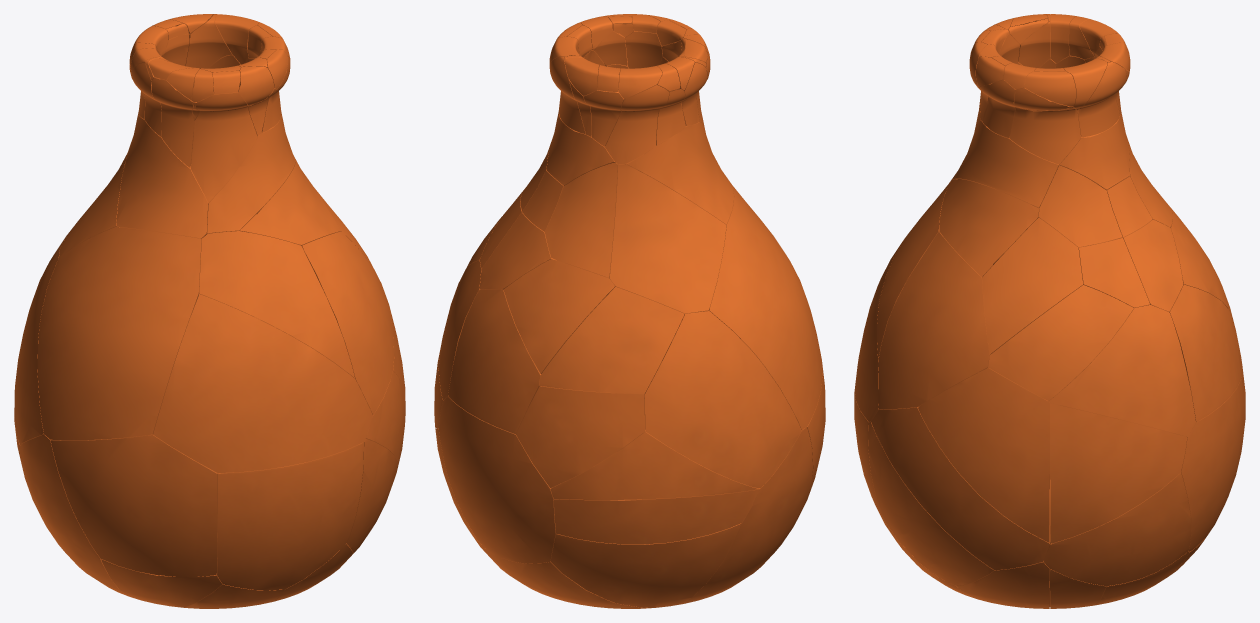
File: Vase_fractured.fbx
3 views of the same model, side by side, from view 1: azimuth 30°, elevation 25°; view 2: azimuth 150°, elevation 25°; view 3: azimuth 270°, elevation 25° (orthographic).
Visible parts, largest first — view 1: Cube.001_cell.017, Cube.001_cell.033, Cube.001_cell.068, Cube.001_cell.015, Cube.001_cell.035, Cube.001_cell.066, Cube.001_cell.041, Cube.001_cell.002, Cube.001_cell.076, Cube.001_cell.028, Cube.001_cell.037, Cube.001_cell.070 (+18 smaller); view 2: Cube.001_cell.070, Cube.001_cell.017, Cube.001_cell.046, Cube.001_cell.027, Cube.001_cell.051, Cube.001_cell.040, Cube.001_cell.052, Cube.001_cell.031, Cube.001_cell.056, Cube.001_cell.003, Cube.001_cell.065, Cube.001_cell.028 (+22 smaller); view 3: Cube.001_cell.072, Cube.001_cell.066, Cube.001_cell.054, Cube.001_cell.023, Cube.001_cell.008, Cube.001_cell.038, Cube.001_cell.064, Cube.001_cell.018, Cube.001_cell.031, Cube.001_cell.027, Cube.001_cell.055, Cube.001_cell.037 (+27 smaller).
Part boxes in pixels (x1,y1,x2,y2): Cube.001_cell.017: [37, 227, 201, 440]; Cube.001_cell.033: [153, 294, 372, 473]; Cube.001_cell.068: [50, 434, 217, 576]; Cube.001_cell.015: [217, 442, 363, 590]; Cube.001_cell.035: [199, 231, 354, 378]; Cube.001_cell.066: [302, 231, 393, 414]; Cube.001_cell.041: [116, 114, 208, 238]; Cube.001_cell.002: [206, 116, 295, 234]; Cube.001_cell.076: [191, 92, 257, 202]; Cube.001_cell.028: [19, 434, 127, 595]; Cube.001_cell.037: [239, 159, 340, 245]; Cube.001_cell.070: [14, 246, 61, 444]; Cube.001_cell.070: [644, 311, 801, 488]; Cube.001_cell.017: [703, 182, 822, 429]; Cube.001_cell.046: [610, 164, 726, 313]; Cube.001_cell.027: [439, 396, 556, 563]; Cube.001_cell.051: [539, 286, 684, 394]; Cube.001_cell.040: [550, 523, 741, 607]; Cube.001_cell.052: [516, 386, 644, 487]; Cube.001_cell.031: [448, 289, 540, 434]; Cube.001_cell.056: [553, 489, 759, 544]; Cube.001_cell.003: [550, 430, 759, 499]; Cube.001_cell.065: [503, 259, 615, 373]; Cube.001_cell.028: [678, 427, 812, 604]; Cube.001_cell.072: [918, 367, 1049, 542]; Cube.001_cell.066: [878, 232, 990, 409]; Cube.001_cell.054: [1050, 403, 1187, 543]; Cube.001_cell.023: [1048, 305, 1195, 436]; Cube.001_cell.008: [871, 406, 1050, 570]; Cube.001_cell.038: [1043, 473, 1191, 586]; Cube.001_cell.064: [988, 285, 1133, 400]; Cube.001_cell.018: [982, 217, 1083, 354]; Cube.001_cell.031: [1169, 284, 1241, 422]; Cube.001_cell.027: [1181, 378, 1245, 551]; Cube.001_cell.055: [868, 421, 994, 585]; Cube.001_cell.037: [939, 179, 1039, 276].
Size of the model in its own units: 202 by 294 by 202.
